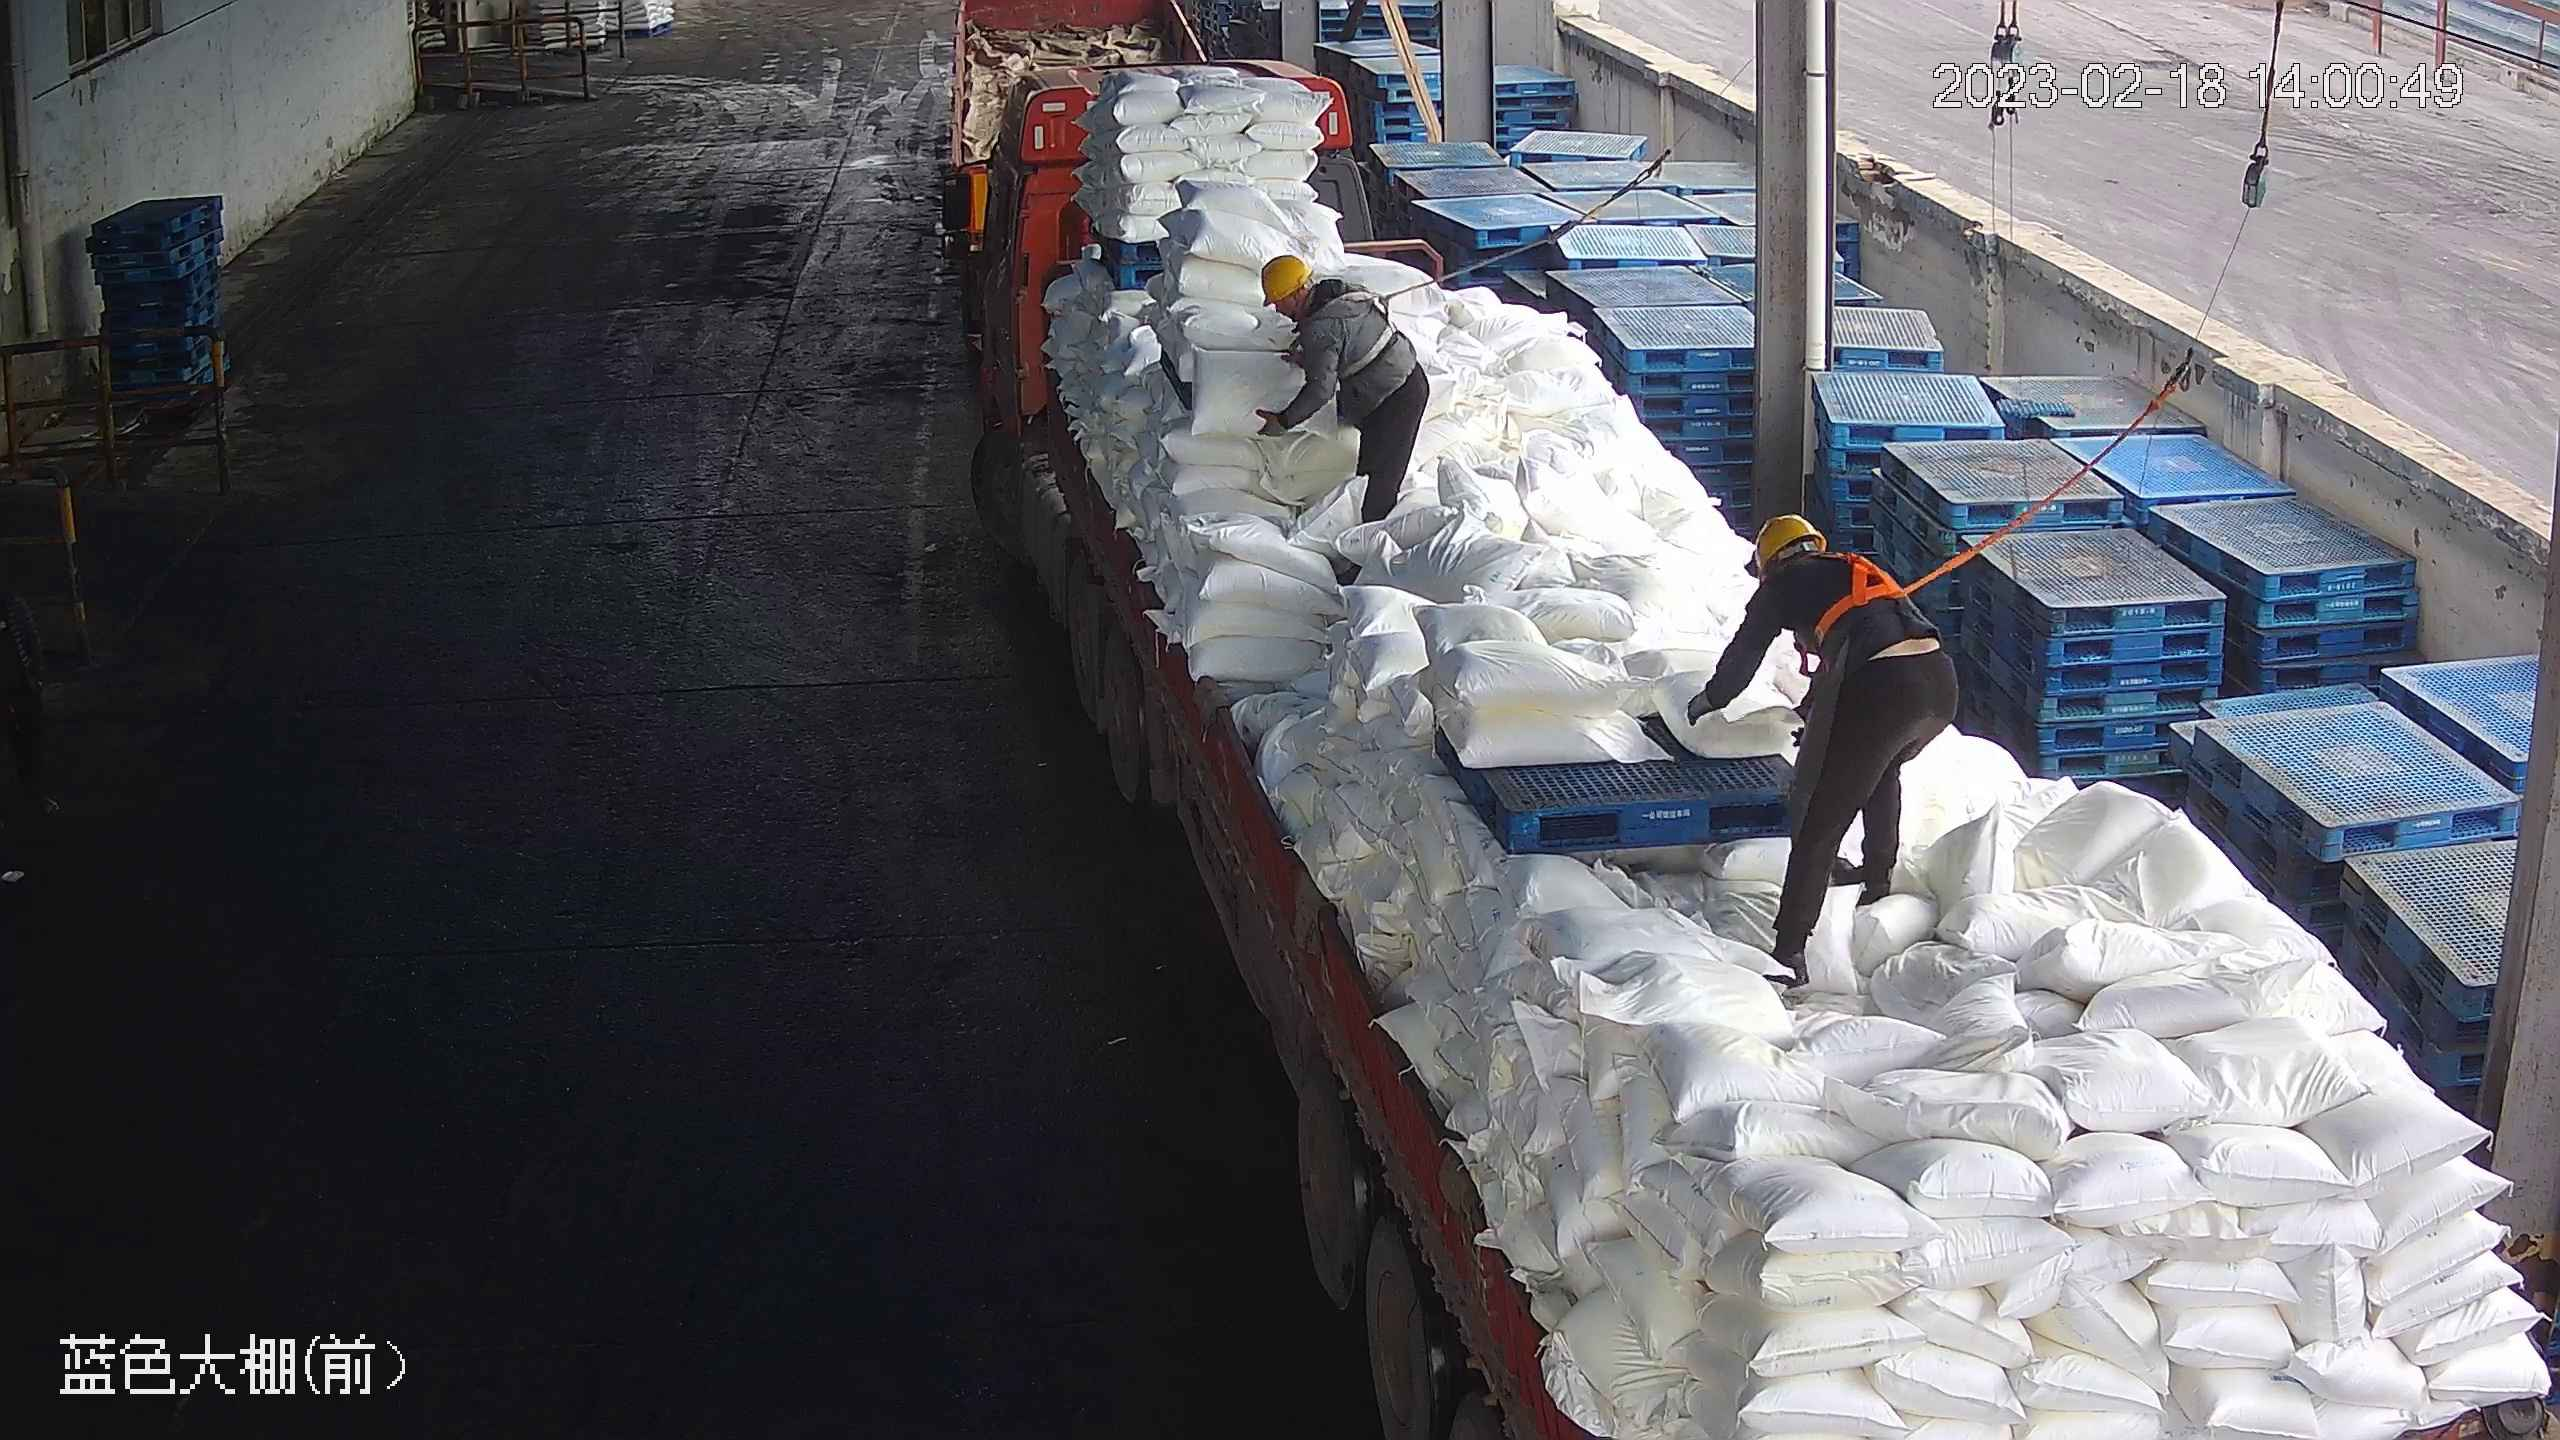belt: (1813, 552, 1929, 642), (1323, 283, 1420, 372)
head: (1735, 515, 1891, 639), (1259, 254, 1364, 363)
helmet: (1754, 515, 1826, 578), (1262, 255, 1314, 308)
people: (1686, 510, 1959, 990), (1252, 255, 1430, 586)
truck: (932, 52, 2560, 1440)
